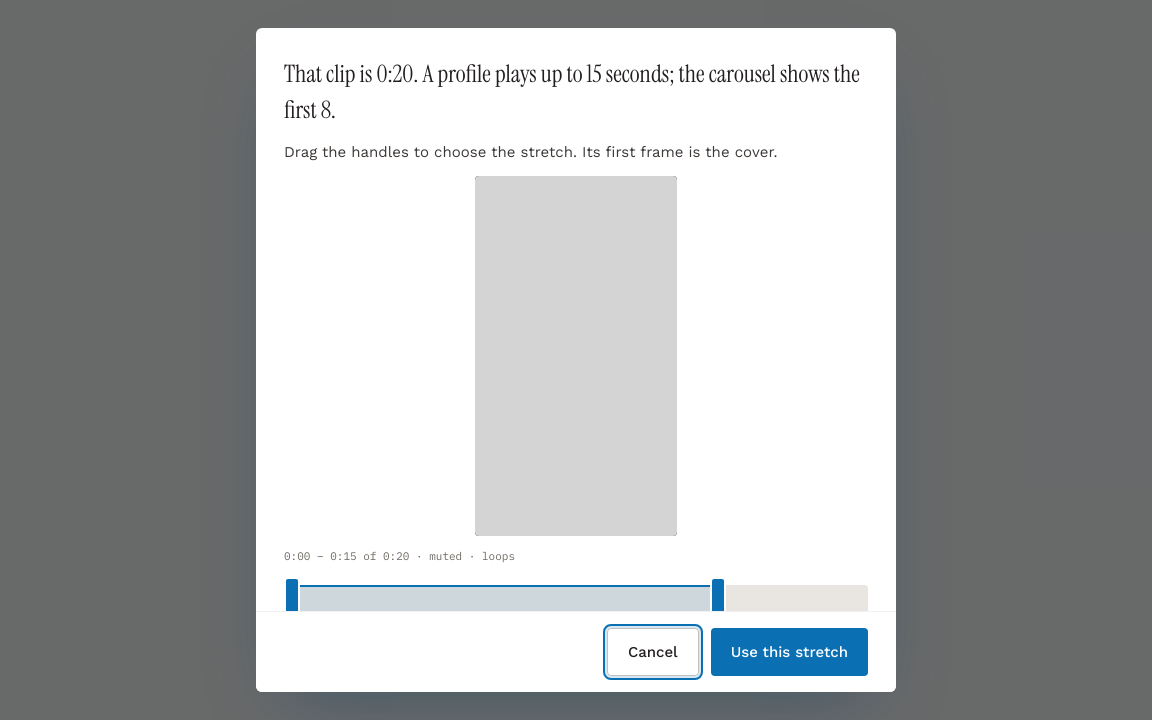
TrimEditor › asks core about every handle move and shows its sentence for a 16 s stretch
The image size is (1152, 720).
Set the slider named "End" to "16" at (746, 599), box 284,577 -> 868,621
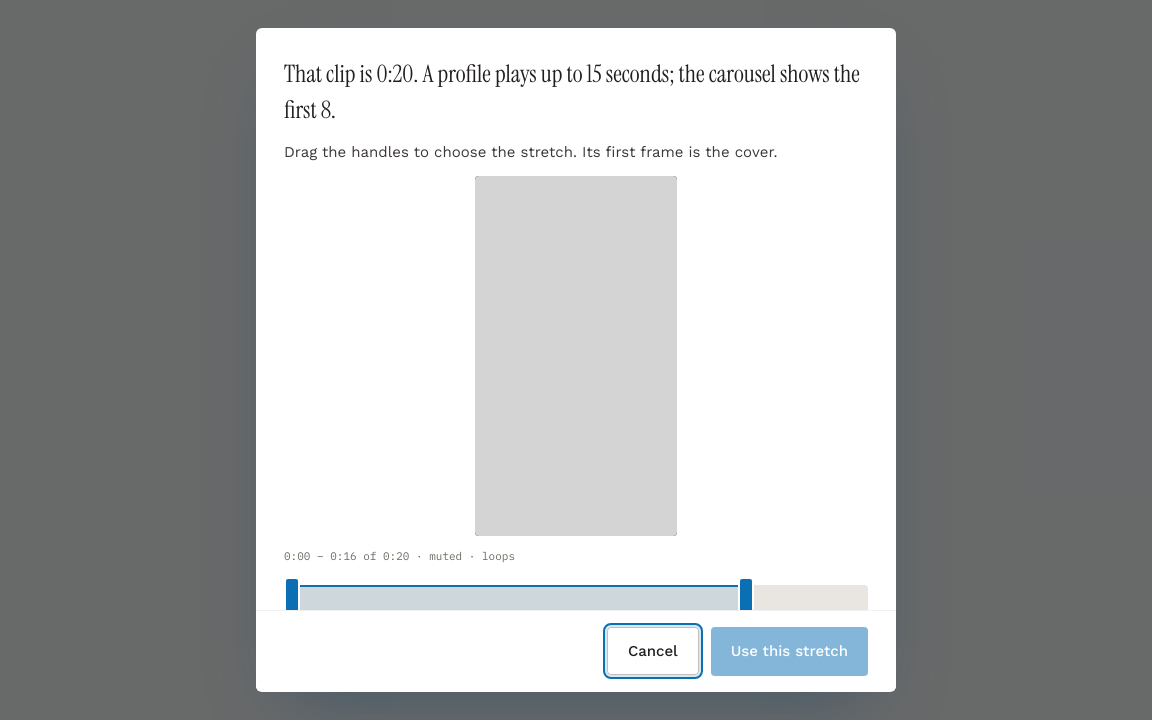
Now the button "Use this stretch" is disabled, box 711,628 -> 868,676
Now the text "0:00 – 0:16 of 0:20 · muted · loops" is shown, box 284,549 -> 515,563
